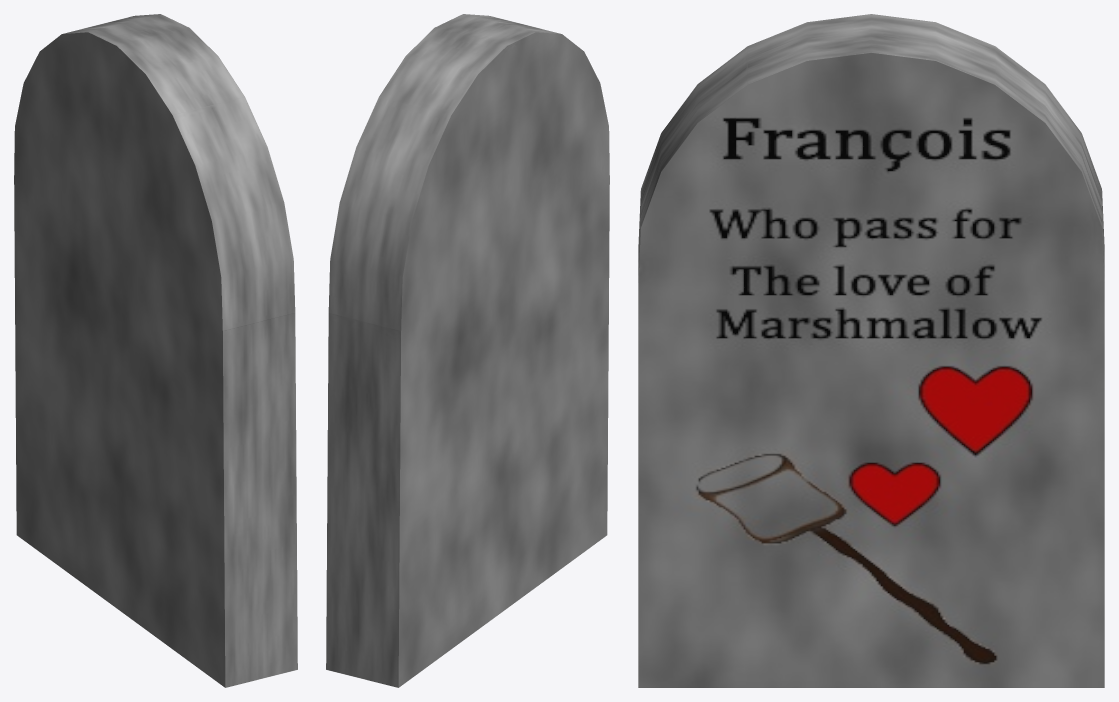
The model's file is Gravestone.FRANCOIS.dae.
3 views of the same model, side by side, from view 1: azimuth 30°, elevation 25°; view 2: azimuth 150°, elevation 25°; view 3: azimuth 270°, elevation 25° (orthographic). The views are drawn at different scales.
Parts seen in each view (by area): view 1: SketchUp; view 2: SketchUp; view 3: SketchUp.
Part boxes in pixels (x1,y1,x2,y2): SketchUp: [14, 14, 297, 687]; SketchUp: [326, 14, 609, 687]; SketchUp: [638, 14, 1104, 687].
Size of the model in its own units: 0.0341 by 0.161 by 0.2413.
Materials: 1 (1 with a texture image).
